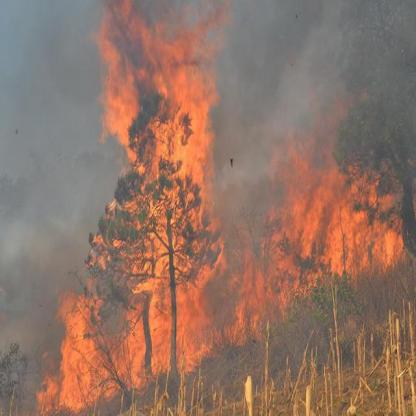fire: (92, 2, 233, 390), (236, 132, 408, 318), (38, 288, 106, 408)
